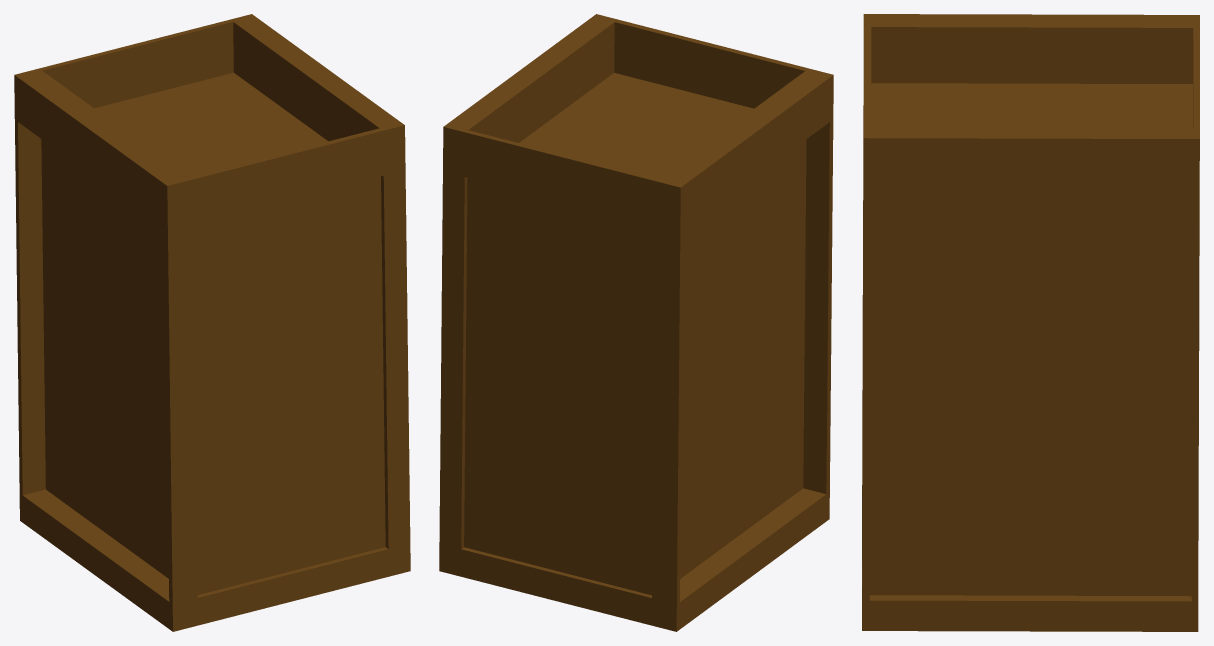
File: Caja2.FBX
3 renders of one model, left to right at view 1: azimuth 30°, elevation 25°; view 2: azimuth 150°, elevation 25°; view 3: azimuth 270°, elevation 25°, orthographic. The views are drawn at different scales.
Parts seen in each view (by area): view 1: G_Caja2; view 2: G_Caja2; view 3: G_Caja2.
Part boxes in pixels (<box>): G_Caja2: <box>14,14,410,631</box>; G_Caja2: <box>439,14,833,631</box>; G_Caja2: <box>862,14,1199,631</box>.
Size of the model in its own units: 5.41 by 9.6 by 5.95.
